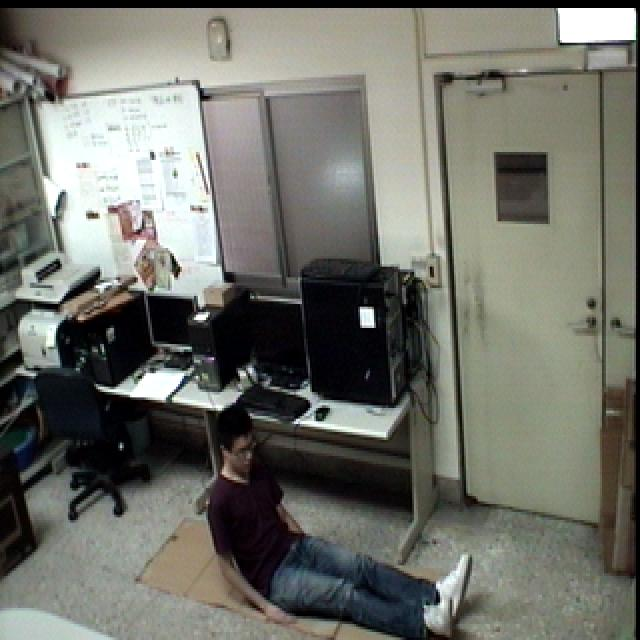sit: (202, 401, 478, 640)
